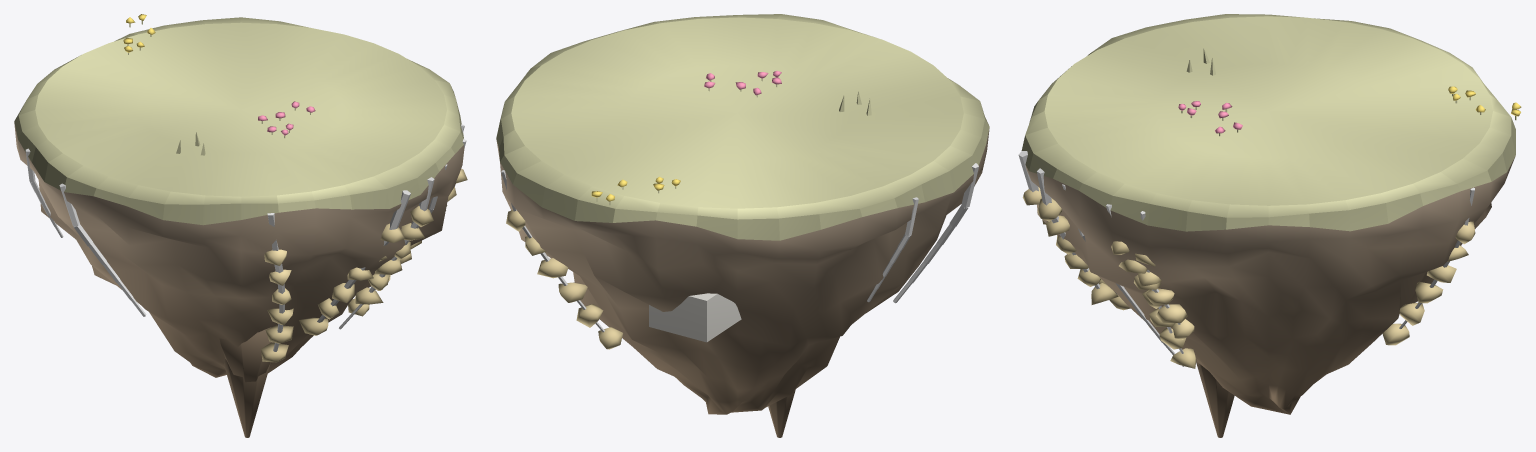
Rendered from SM_MovingIslandArt.fbx.
The picture shows the model from 3 angles, left to right: view 1: azimuth 30°, elevation 25°; view 2: azimuth 150°, elevation 25°; view 3: azimuth 270°, elevation 25°; orthographic projection. The views are drawn at different scales.
Parts seen in each view (by area): view 1: SM_MovingIslandArt; view 2: SM_MovingIslandArt; view 3: SM_MovingIslandArt.
Part boxes in pixels (x1,y1,x2,y2): SM_MovingIslandArt: (14, 14, 467, 437); SM_MovingIslandArt: (496, 14, 989, 437); SM_MovingIslandArt: (1018, 14, 1521, 437).
Bounding box in the file's own units: 372 × 291 × 379.
